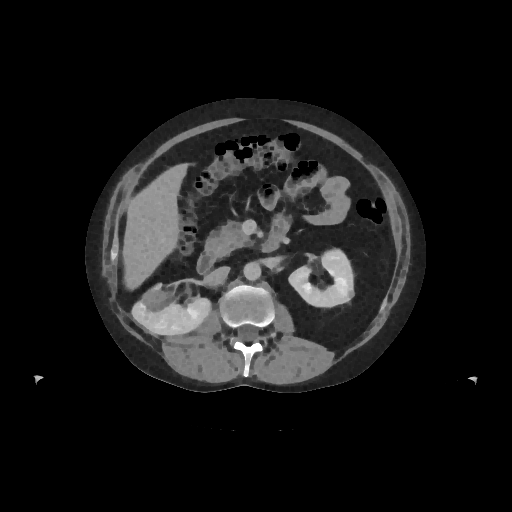Lesion: (346, 289, 356, 301)
